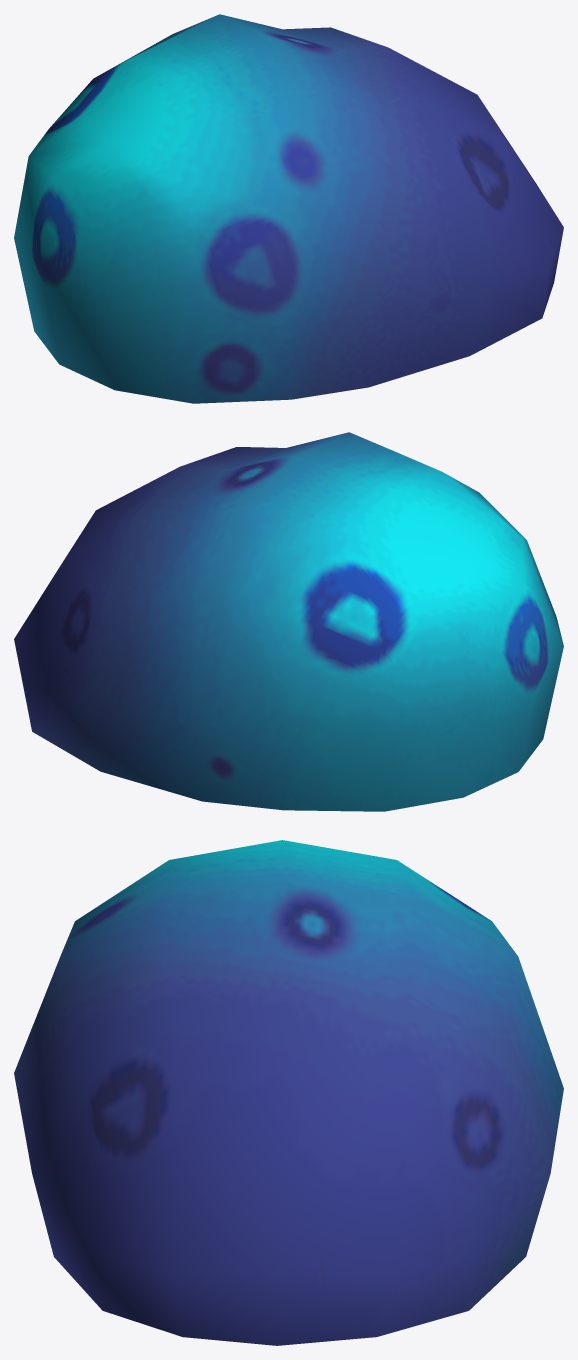
File: cj_baozi2.fbx
3 renders of one model, top to bottom at view 1: azimuth 30°, elevation 25°; view 2: azimuth 150°, elevation 25°; view 3: azimuth 270°, elevation 25°, orthographic. The views are drawn at different scales.
Parts seen in each view (by area): view 1: cj_baozi2; view 2: cj_baozi2; view 3: cj_baozi2.
Boxes of the visible parts, x1,y1,x2,y2 form: cj_baozi2: (14, 14, 563, 403); cj_baozi2: (14, 432, 563, 811); cj_baozi2: (14, 840, 563, 1345).
Bounding box in the file's own units: 3487 × 1799 × 2817.
